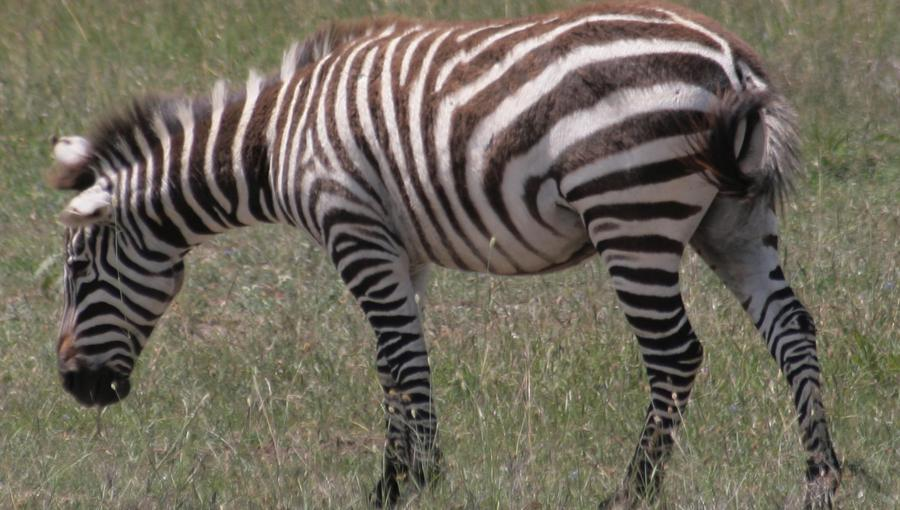zebra_plains: (274, 3, 728, 307)
